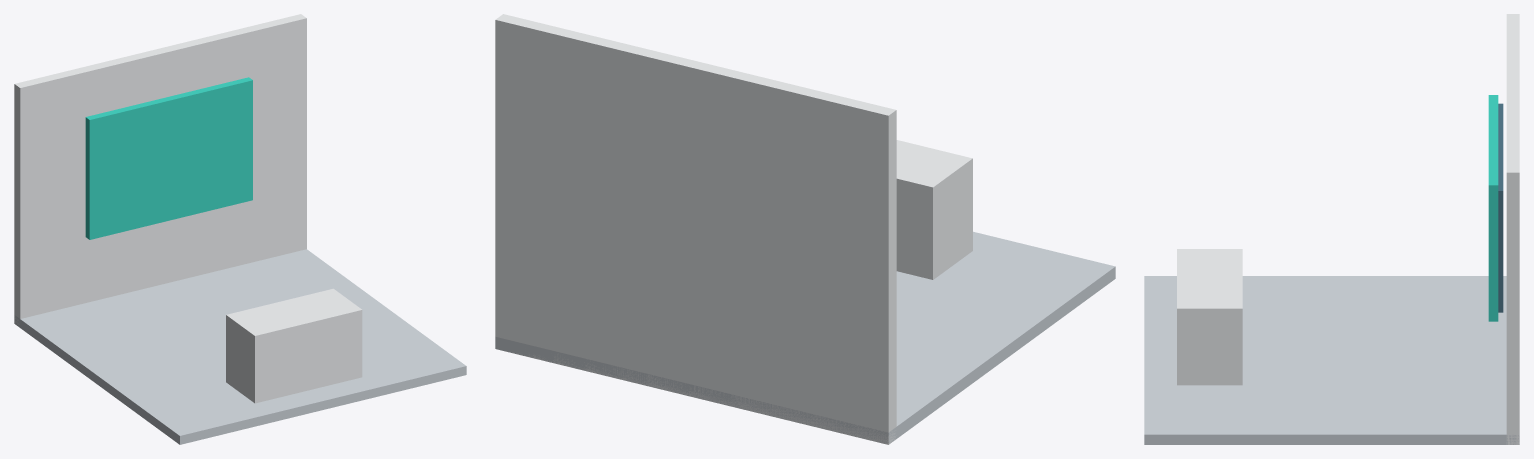
3 views of the same model, side by side, from view 1: azimuth 30°, elevation 25°; view 2: azimuth 150°, elevation 25°; view 3: azimuth 270°, elevation 25° (orthographic). The views are drawn at different scales.
Parts seen in each view (by area): view 1: Exhibition Booth Concept; view 2: Exhibition Booth Concept; view 3: Exhibition Booth Concept.
Part boxes in pixels (bbox=[...]): Exhibition Booth Concept: bbox=[14, 14, 466, 444]; Exhibition Booth Concept: bbox=[495, 14, 1115, 444]; Exhibition Booth Concept: bbox=[1144, 14, 1519, 444].
Bounding box in the file's own units: 4 × 3.2 × 4.
